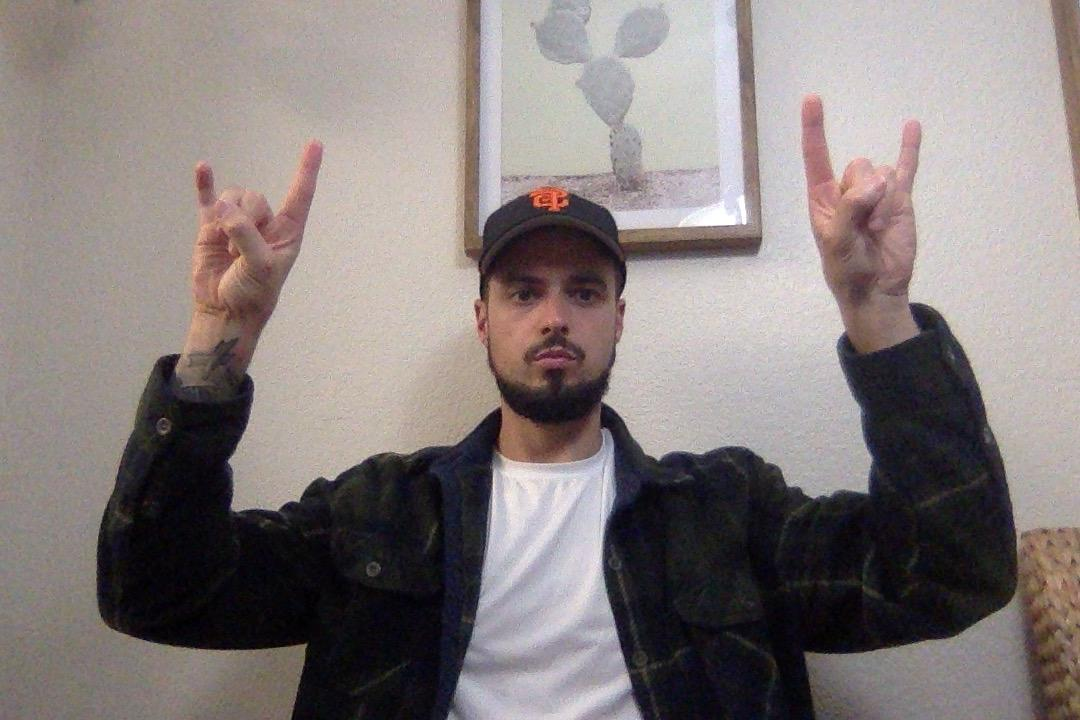Rock: (789, 85, 937, 326), (179, 140, 322, 331)
